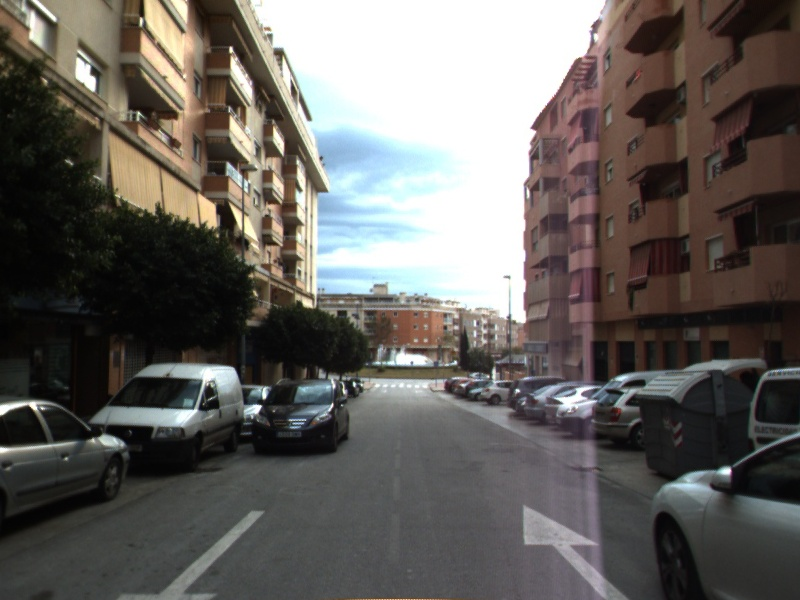STRAIGHT: (518, 502, 635, 600)
